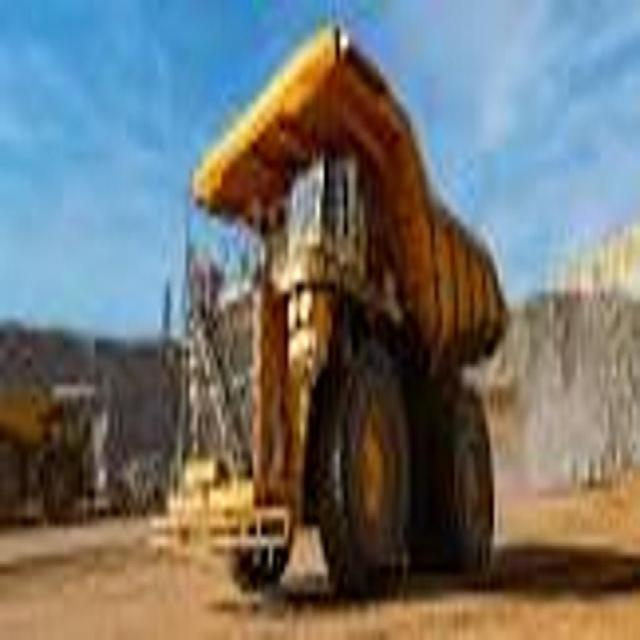dump_truck: (179, 27, 505, 587)
